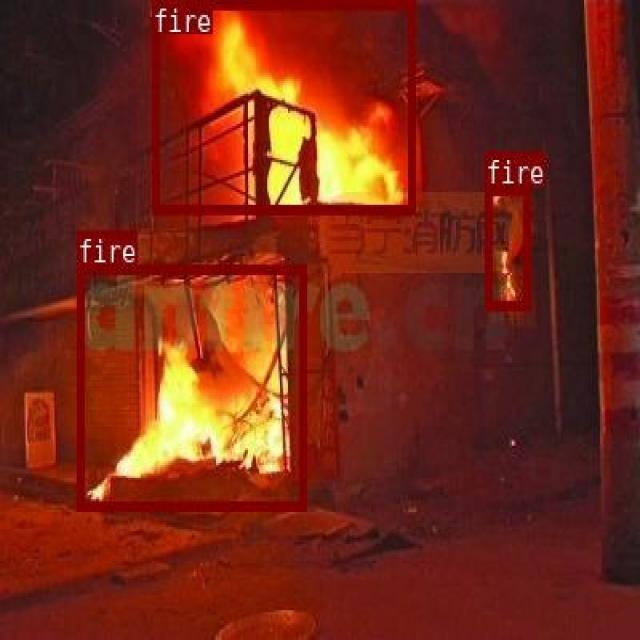fire: (76, 264, 304, 508), (150, 0, 413, 211), (485, 184, 529, 308)
